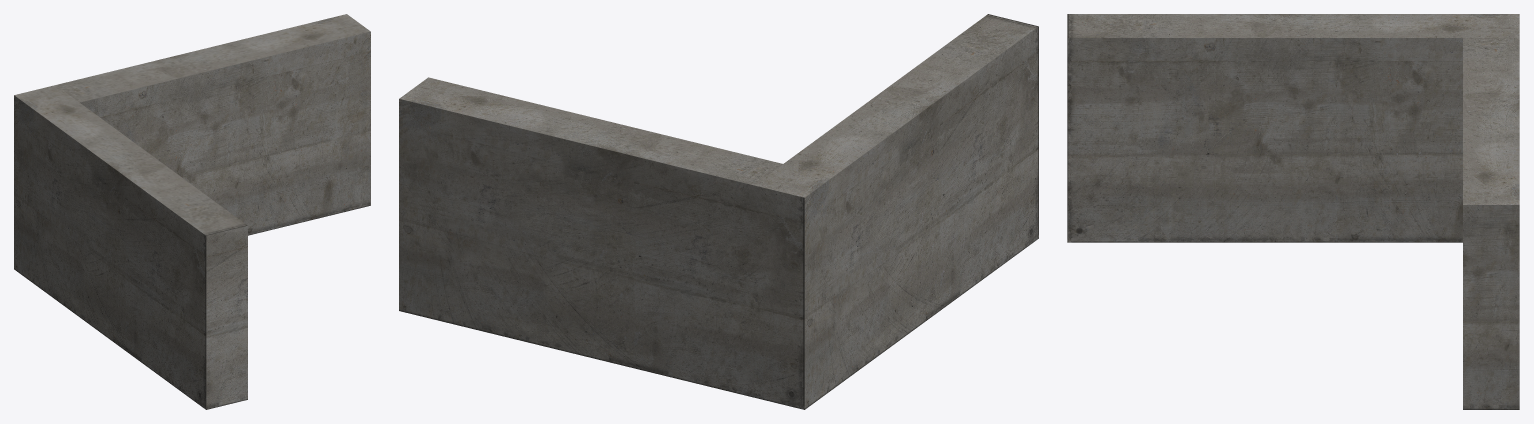
File: CP_Parapet_B_Angle_Out.fbx
3 views of the same model, side by side, from view 1: azimuth 30°, elevation 25°; view 2: azimuth 150°, elevation 25°; view 3: azimuth 270°, elevation 25° (orthographic). The views are drawn at different scales.
Visible parts, largest first — view 1: CP_Parapet_B_Angle_Out; view 2: CP_Parapet_B_Angle_Out; view 3: CP_Parapet_B_Angle_Out.
Boxes of the visible parts, x1,y1,x2,y2 form: CP_Parapet_B_Angle_Out: (14,14,370,409); CP_Parapet_B_Angle_Out: (399,14,1038,409); CP_Parapet_B_Angle_Out: (1067,14,1519,409).
Size of the model in its own units: 200 by 100 by 200.
